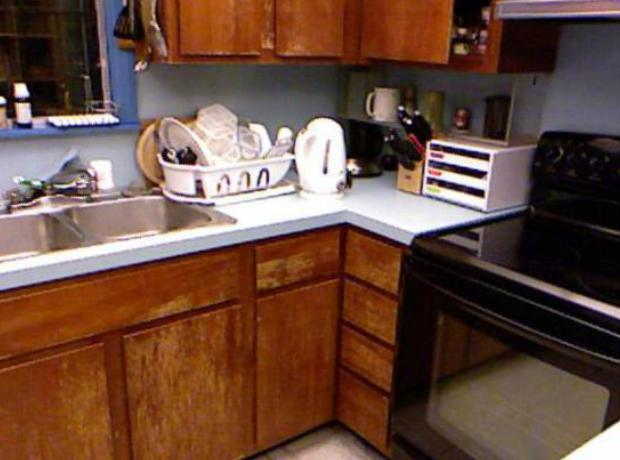Electrodomestico: (388, 126, 620, 460)
Lavaplatos: (0, 142, 243, 277)
